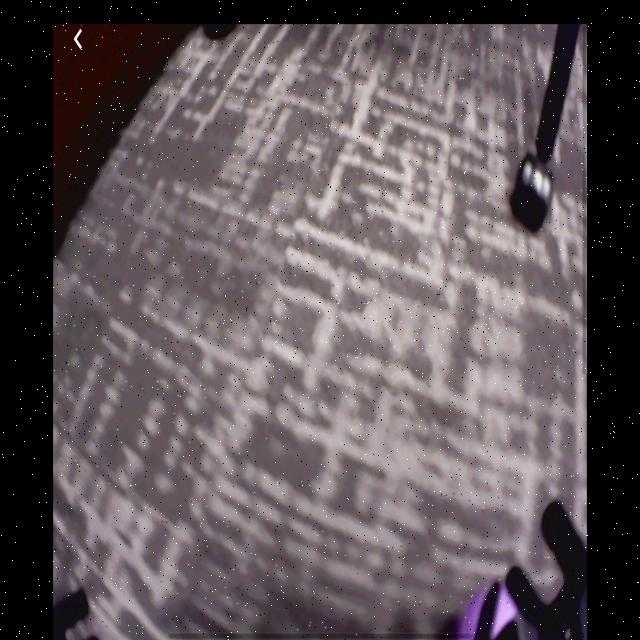ball: (461, 584, 525, 640)
